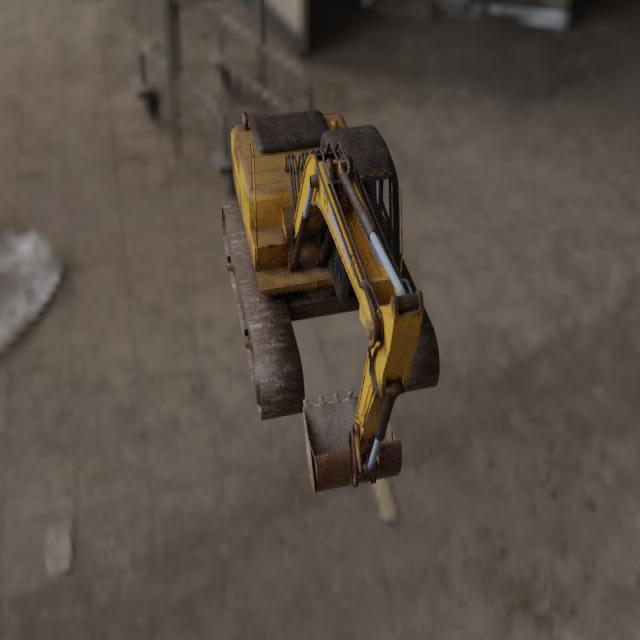excavator: (220, 108, 440, 492)
